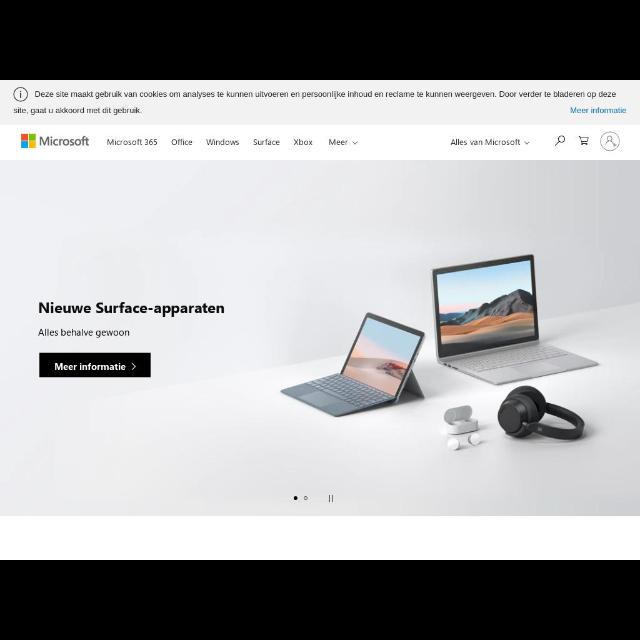icon: (601, 131, 619, 151), (13, 86, 29, 102), (578, 134, 590, 146), (554, 135, 564, 147), (130, 362, 138, 372), (524, 140, 530, 146), (352, 140, 358, 146)
image: (282, 255, 600, 451), (20, 134, 36, 148)
pageindicator: (292, 496, 308, 502)
spinner: (452, 138, 530, 148), (327, 138, 361, 148)
text: (34, 90, 618, 100), (38, 300, 225, 316), (12, 107, 144, 115), (39, 328, 130, 338), (55, 363, 127, 373), (39, 136, 90, 148), (569, 106, 627, 116), (450, 138, 520, 146), (105, 140, 158, 146), (293, 138, 313, 148), (206, 138, 238, 144), (170, 138, 192, 146), (252, 140, 280, 146), (327, 138, 348, 146)
textbutton: (40, 353, 150, 377)
toolbar: (1, 124, 639, 160)
